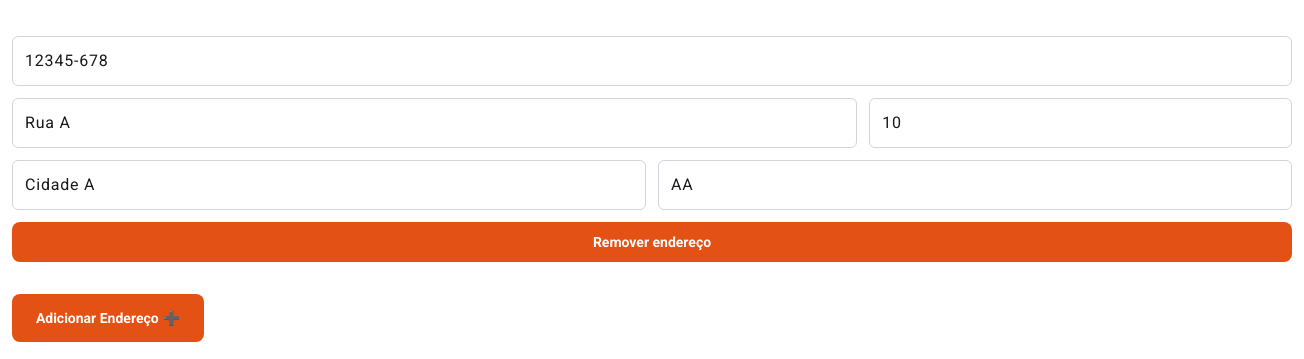
AddressFormFields (Unit) › removes an address when remove button is clicked
Click the button "Remover endereço" at (652, 242), box [12,222,1292,262]
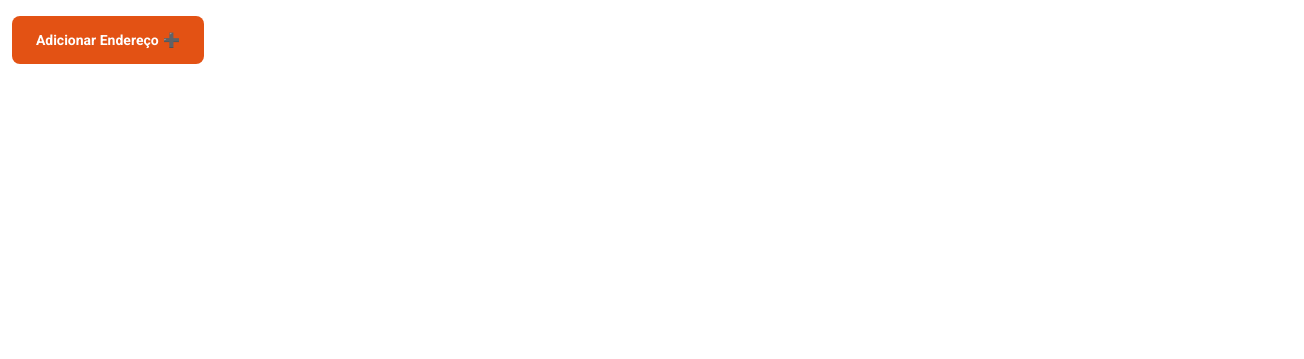
Now no fields with placeholder "Rua" are shown
